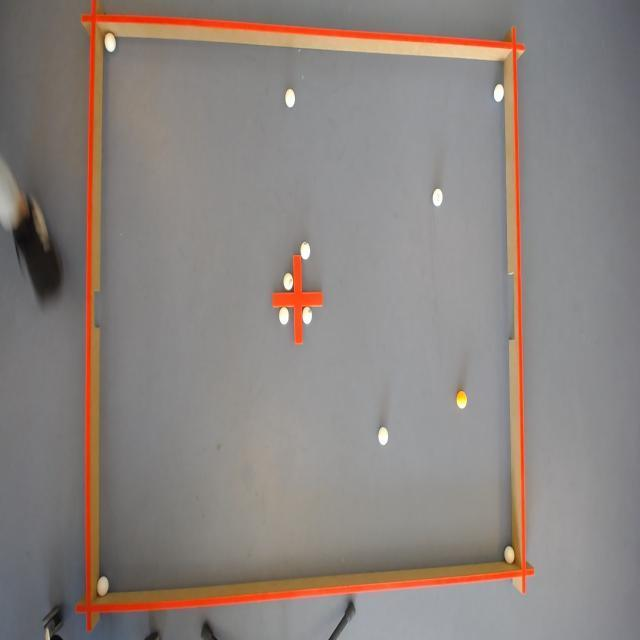orange: (454, 390, 466, 410)
white: (491, 83, 504, 104), (284, 88, 296, 109), (95, 576, 108, 595), (300, 240, 313, 258), (377, 425, 388, 446), (433, 188, 444, 208), (102, 34, 114, 52), (504, 545, 516, 563), (278, 306, 288, 326), (302, 306, 312, 324), (282, 270, 292, 288)
